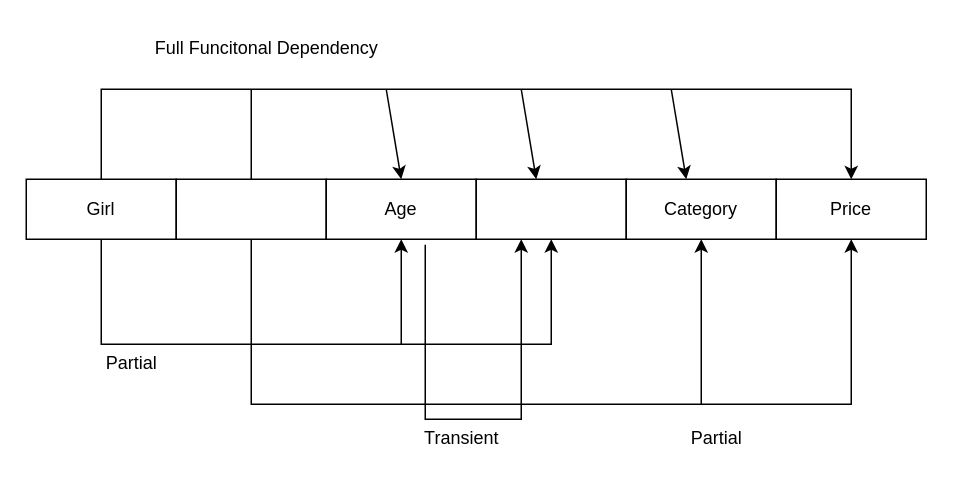
The diagram is 953 pixels wide and 486 high, and some of its shapes have lost their labels. The shapes that lost their labels are listed below. From the top down, each one's centre as x and y in pixels, then its label:
At point 250,208: "Game".
At point 550,208: "Group".
